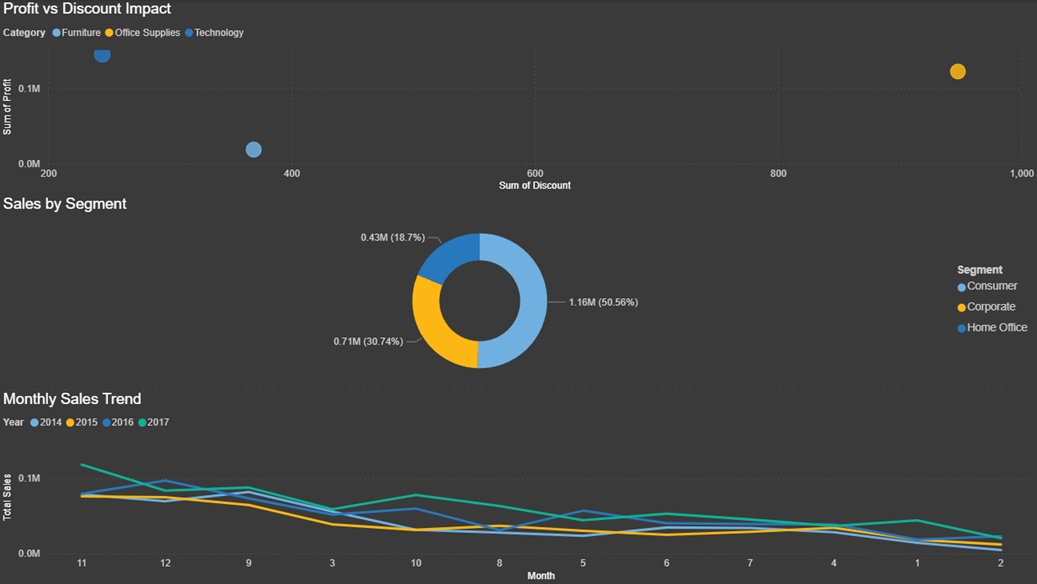

The dashboard page shown, as its layout file describes it:
{"tool":"powerbi","page":{"name":"Page 2","canvas":[1280,720],"ordinal":1},"visuals":[{"type":"scatterChart","title":"Profit vs Discount Impact","fields":{"X":["Sum(Superstore Sales Performance.Discount)"],"Y":["Sum(Superstore Sales Performance.Profit)"],"Size":["Sum(Superstore Sales Performance.Sales)"],"Series":["Superstore Sales Performance.Category"]},"box":[0,0,1280,240],"z":0},{"type":"lineChart","title":"Monthly Sales Trend","fields":{"Category":["Superstore Sales Performance.Month"],"Y":["Superstore Sales Performance.Total Sales"],"Series":["Superstore Sales Performance.Year"]},"box":[0,480,1280,240],"z":1},{"type":"donutChart","title":"Sales by Segment","fields":{"Category":["Superstore Sales Performance.Segment"],"Y":["Superstore Sales Performance.Total Sales"]},"box":[0,240,1280,240],"z":1000}]}

Visuals, with their boxes in screenshot pixels (x1, y1, x2, y2), scaled from the page's 1280x720 canvas onto the 1037x584 screenshot:
"Profit vs Discount Impact" scatterChart: 0 0 1036 195
"Monthly Sales Trend" lineChart: 0 389 1036 583
"Sales by Segment" donutChart: 0 195 1036 389
